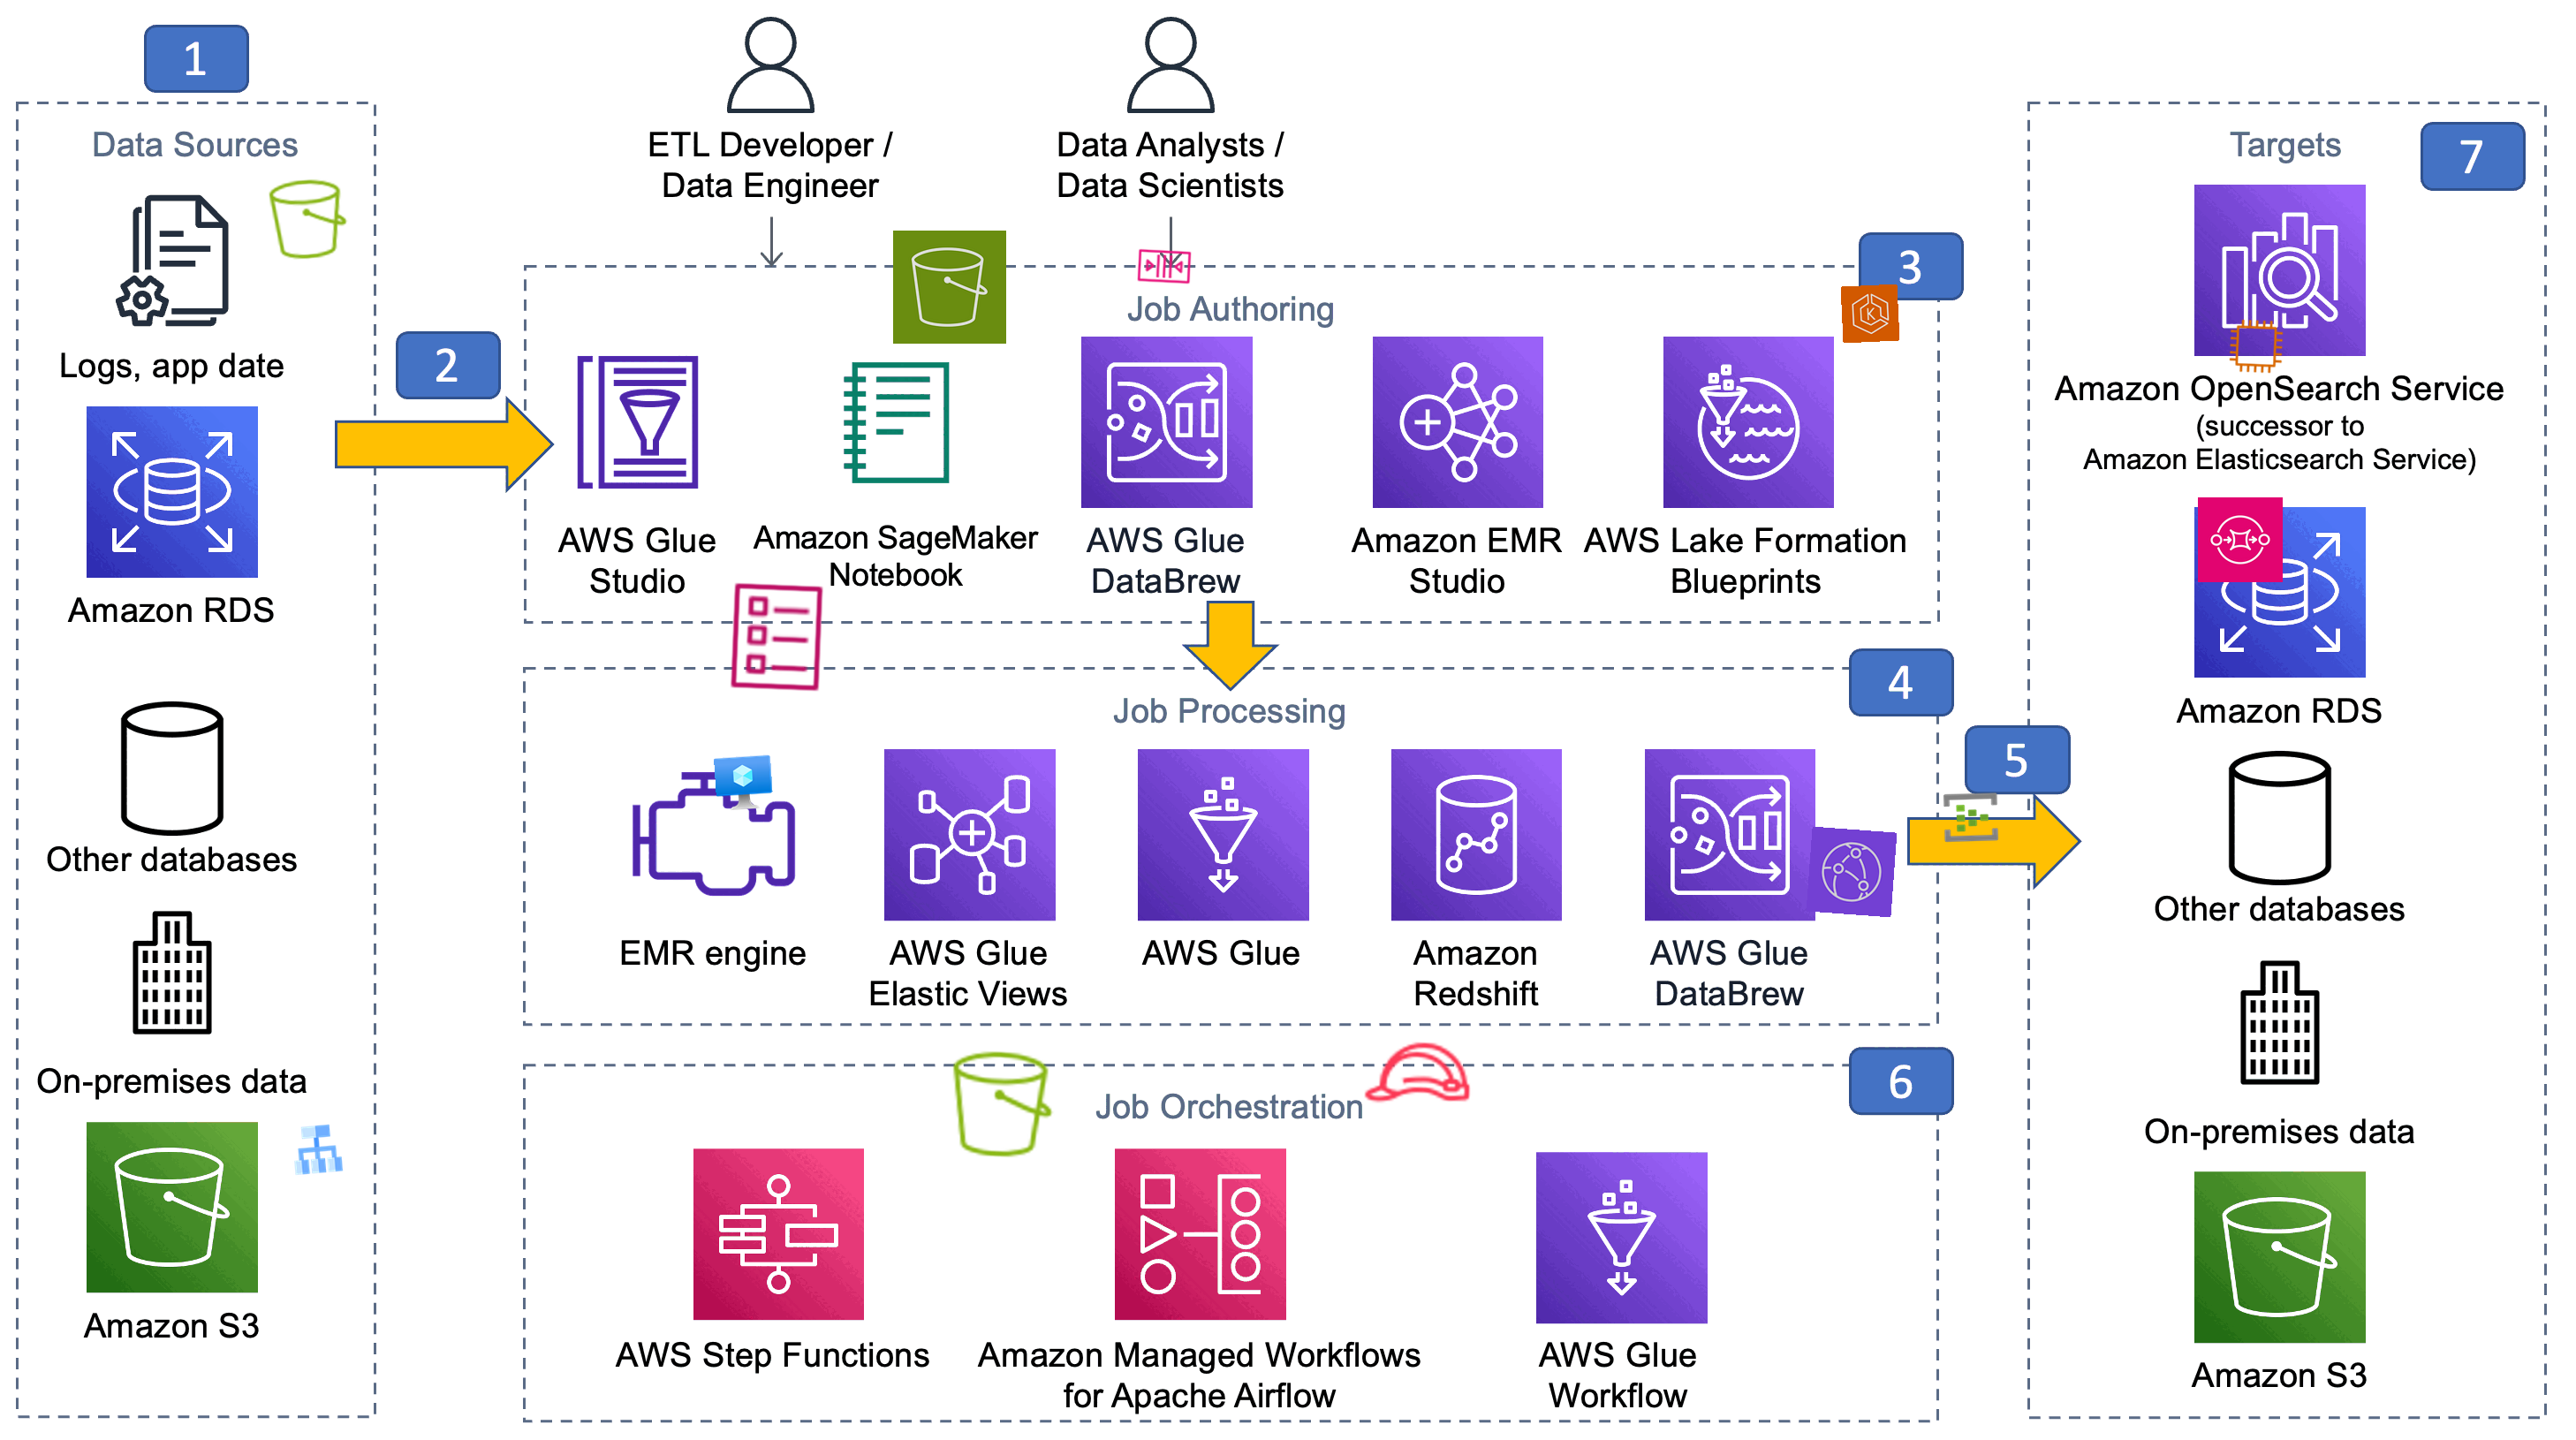aws_amazon_cloudfront: (1806, 826, 1898, 918)
aws_amazon_elastic_kubernetes_service: (1840, 283, 1900, 343)
aws_amazon_simple_queue_service: (2197, 497, 2284, 584)
aws_amazon_simple_storage_service: (892, 230, 1007, 345)
aws_cloudformation_template: (717, 578, 835, 697)
aws_ec2_instance: (2226, 317, 2286, 377)
aws_identity_access_management_role: (1359, 1014, 1477, 1132)
aws_simple_queue_service_queue: (1134, 235, 1194, 295)
aws_simple_storage_service_bucket: (943, 1046, 1062, 1164)
aws_simple_storage_service_s3_standard: (262, 173, 354, 265)
azure_event_hubs: (1941, 787, 1999, 846)
azure_virtual_machine: (713, 754, 773, 814)
gcp_cloud_load_balancing: (287, 1118, 349, 1180)
